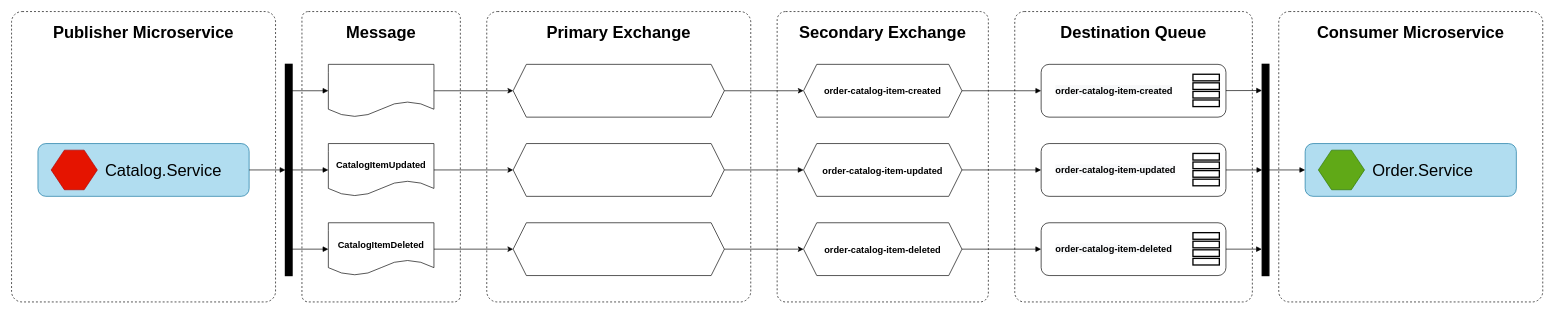
Image size: 1554x314. Some labels were removed from this diagram. The shapes that lost their labels are listed below. From the top down, each one's centre as x and y in pixels, then its label:
At point (381, 90): "CatalogItemCreated".
At point (618, 90): "MSPOC.Events.Catalog:CatalogItemCreated".
At point (618, 169): "MSPOC.Events.Catalog:CatalogItemUpdated".
At point (618, 249): "MSPOC.Events.Catalog:CatalogItemDeleted".
